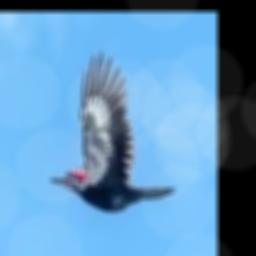Woodpecker: (49, 50, 177, 212)
